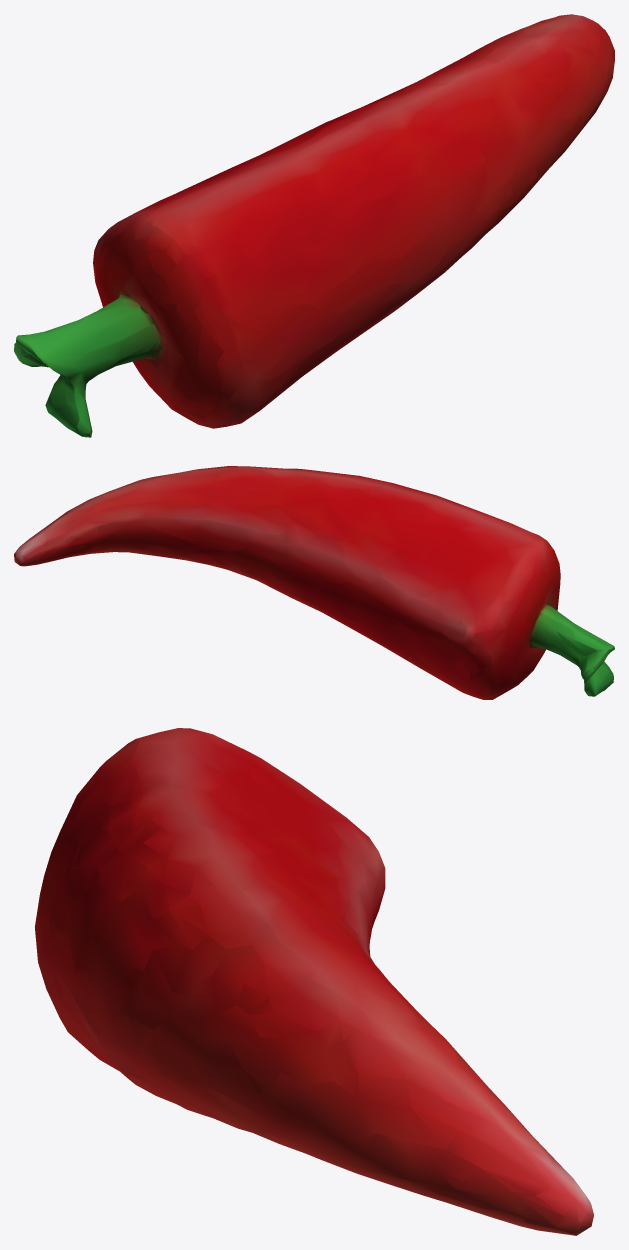
Rendered from 0008_mask_009_red_chili_pepper.glb.
The picture shows the model from 3 angles, top to bottom: view 1: azimuth 30°, elevation 25°; view 2: azimuth 150°, elevation 25°; view 3: azimuth 270°, elevation 25°; orthographic projection. The views are drawn at different scales.
Parts seen in each view (by area): view 1: mask_009_object; view 2: mask_009_object; view 3: mask_009_object.
Boxes of the visible parts, x1,y1,x2,y2 form: mask_009_object: (14, 14, 614, 437); mask_009_object: (14, 466, 614, 699); mask_009_object: (35, 728, 593, 1235).
Size of the model in its own units: 0.3324 by 0.1171 by 0.1583.
